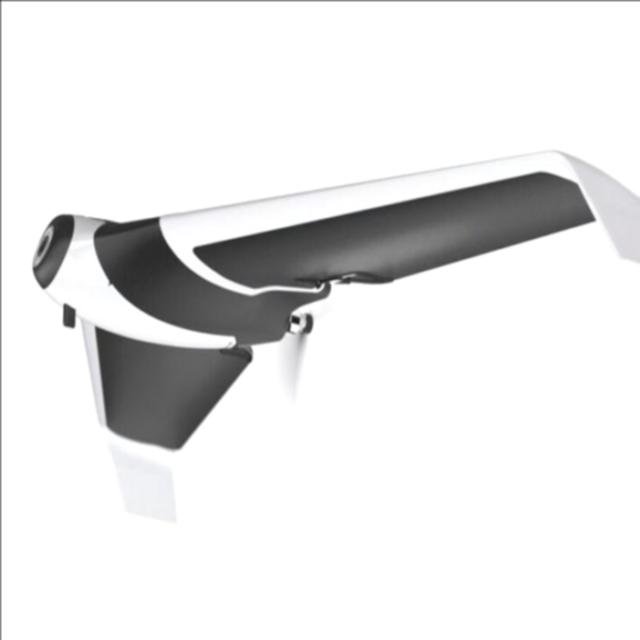plane: (29, 147, 640, 528)
